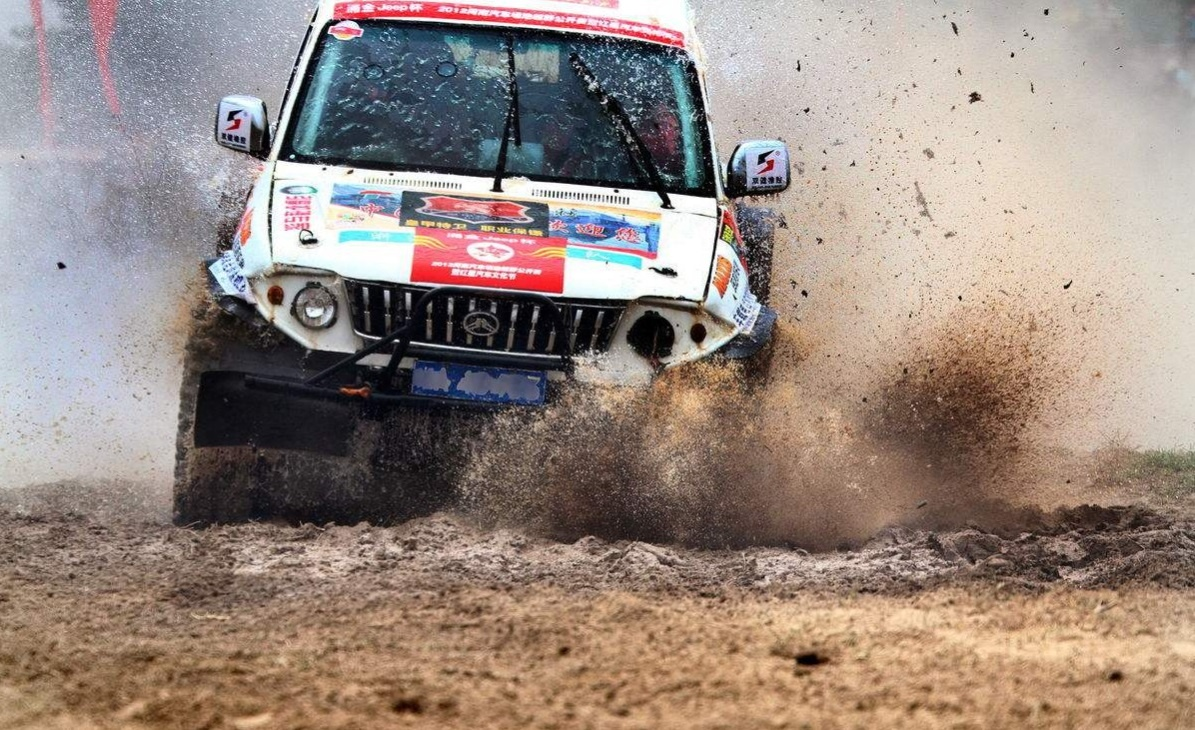jeep: (161, 8, 799, 512)
